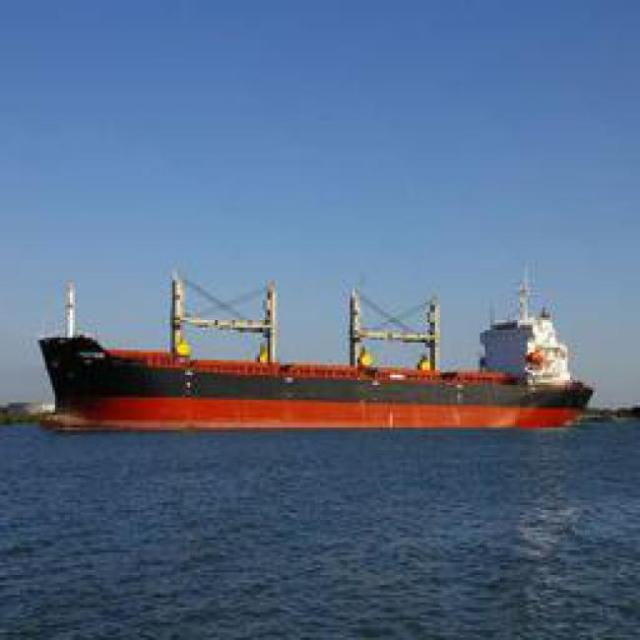boat: (31, 266, 590, 428)
